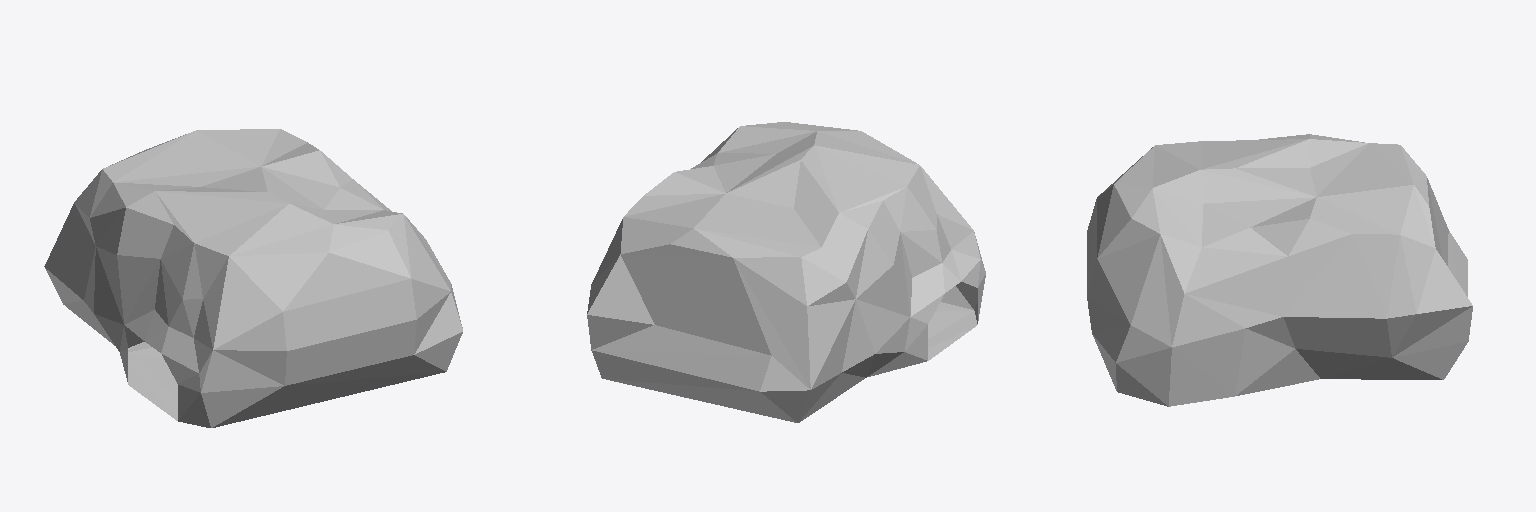
Rendered from Mesh_CavePack_Room_Square_End_Large_lod1.obj.
3 renders of one model, left to right at view 1: azimuth 30°, elevation 25°; view 2: azimuth 150°, elevation 25°; view 3: azimuth 270°, elevation 25°, orthographic.
Visible parts, largest first — view 1: Plane.016; view 2: Plane.016; view 3: Plane.016.
Boxes of the visible parts, x1,y1,x2,y2 form: Plane.016: [44, 129, 462, 427]; Plane.016: [587, 122, 985, 422]; Plane.016: [1087, 134, 1472, 406].
Size of the model in its own units: 32.43 by 17.89 by 37.68.